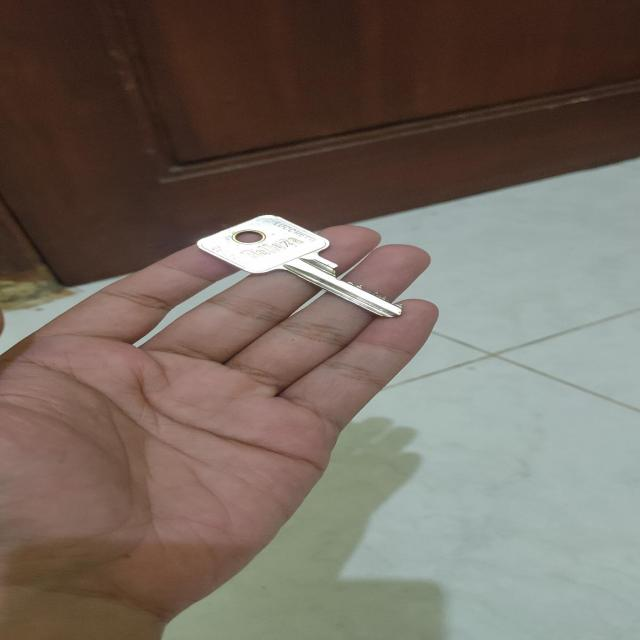kunci_kos: (189, 208, 417, 323)
